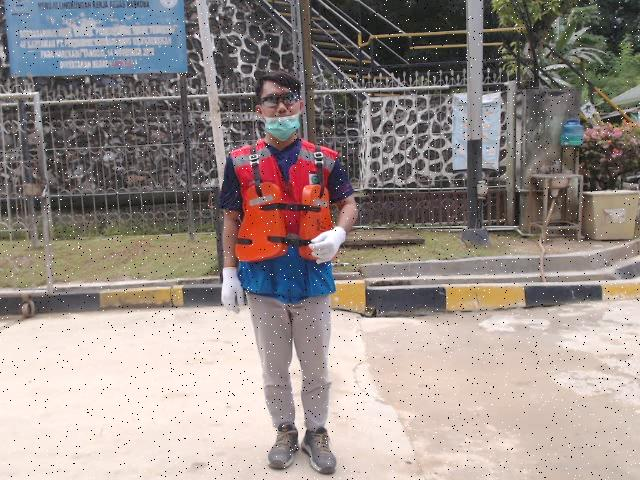glasses: (261, 93, 300, 106)
gloves: (213, 262, 248, 321), (308, 222, 349, 267)
mask: (260, 113, 302, 143)
safety-shoes: (261, 422, 302, 473), (300, 427, 341, 476)
vest: (234, 185, 334, 264)
